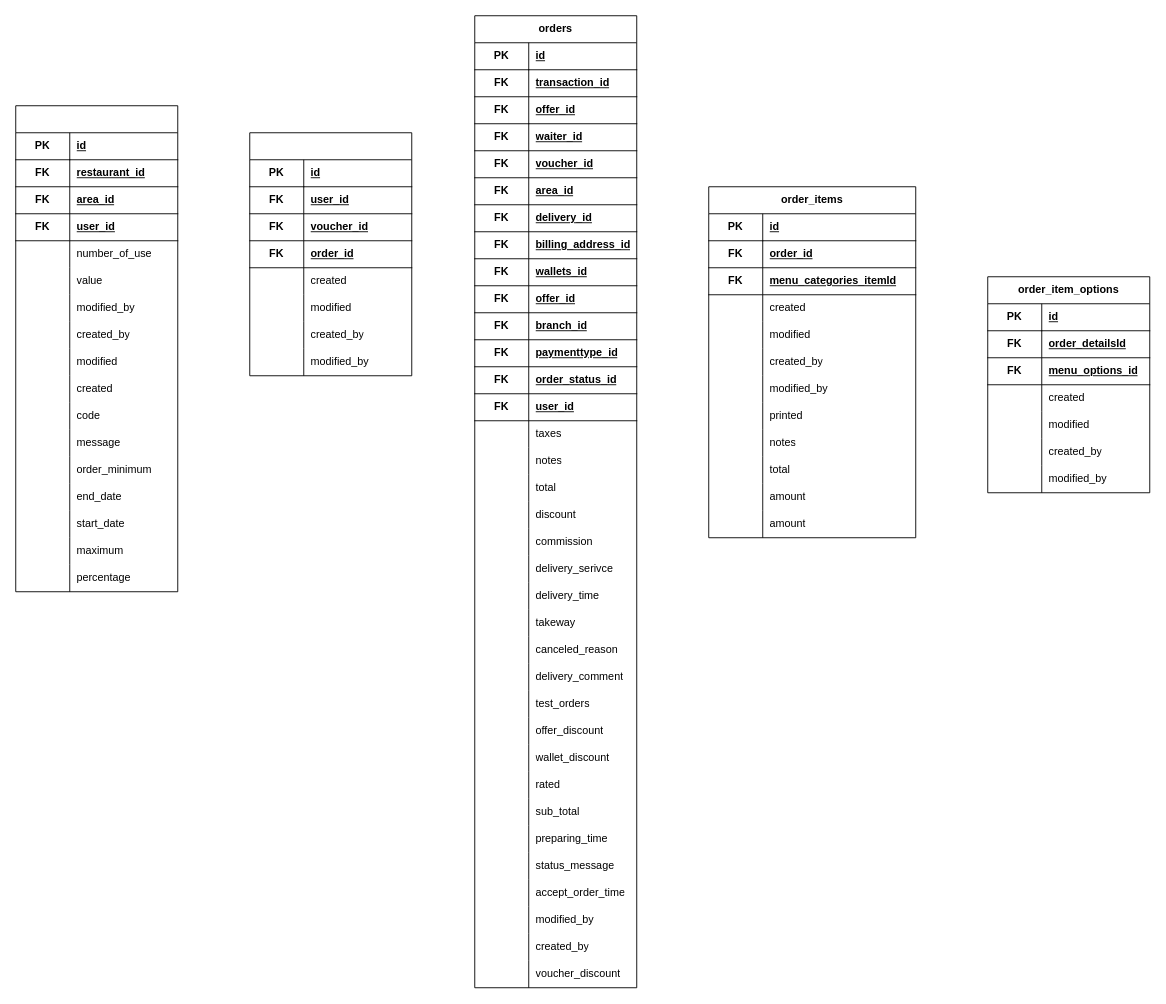
The diagram is 1166 pixels wide and 1004 high, and some of its shapes have lost their labels. The box of each missing label's shape, as (x1, y1, x2, y2) in pixels:
voucher: (15, 105, 178, 592)
voucher_used: (249, 132, 412, 376)
